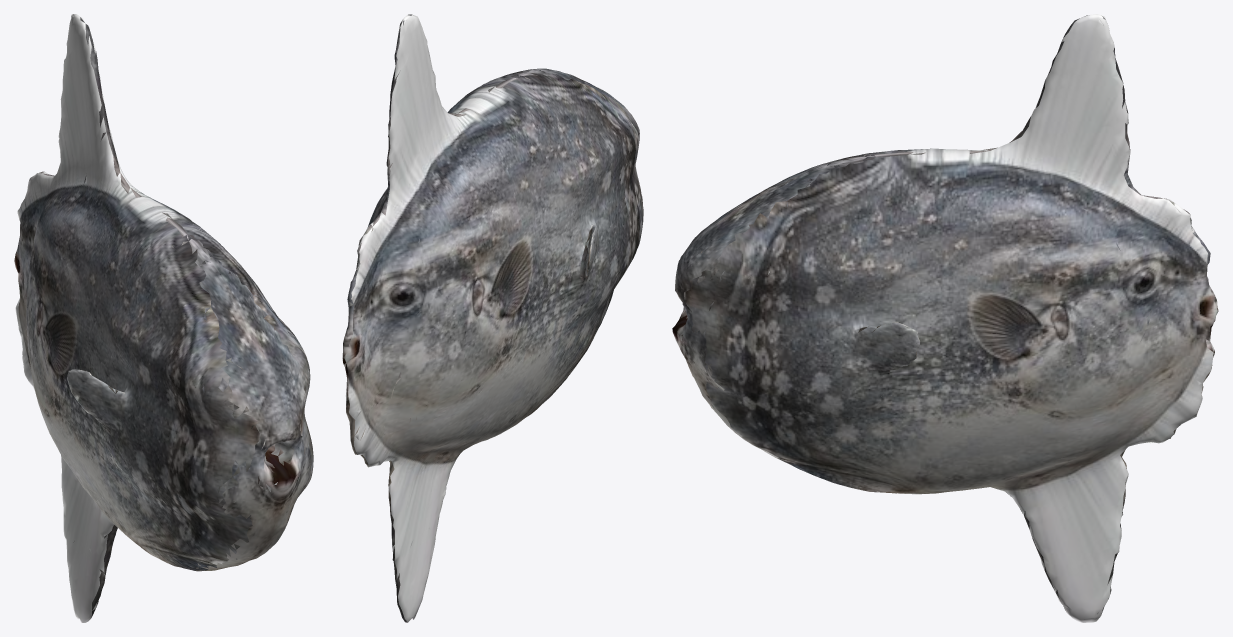
Rendered from fish_sunfish.glb.
3 renders of one model, left to right at view 1: azimuth 30°, elevation 25°; view 2: azimuth 150°, elevation 25°; view 3: azimuth 270°, elevation 25°, orthographic.
Parts seen in each view (by area): view 1: orient; view 2: orient; view 3: orient.
Part boxes in pixels (bbox=[...]): orient: bbox=[14, 14, 313, 622]; orient: bbox=[342, 14, 643, 622]; orient: bbox=[672, 14, 1218, 622].
Size of the model in its own units: 0.6444 by 1.92 by 1.56.
Materials: 1 (1 with a texture image).
